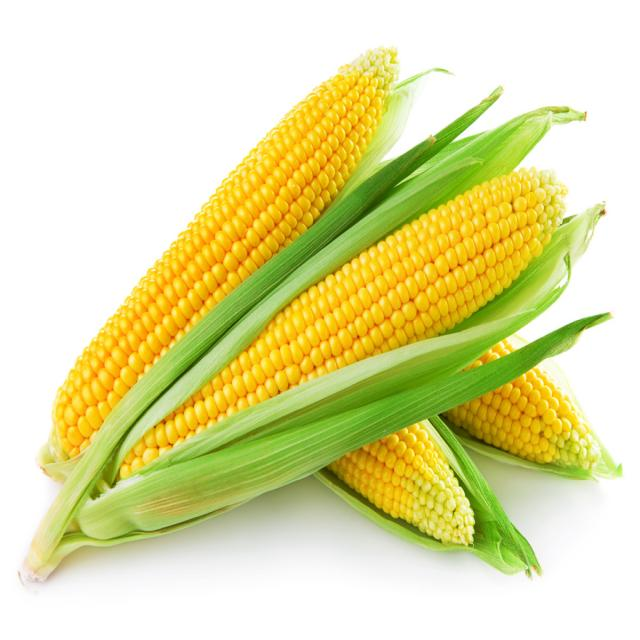Corn ear: (150, 236, 370, 458), (56, 191, 235, 451), (371, 160, 566, 346), (207, 56, 382, 234), (339, 427, 468, 545), (481, 375, 602, 468)
